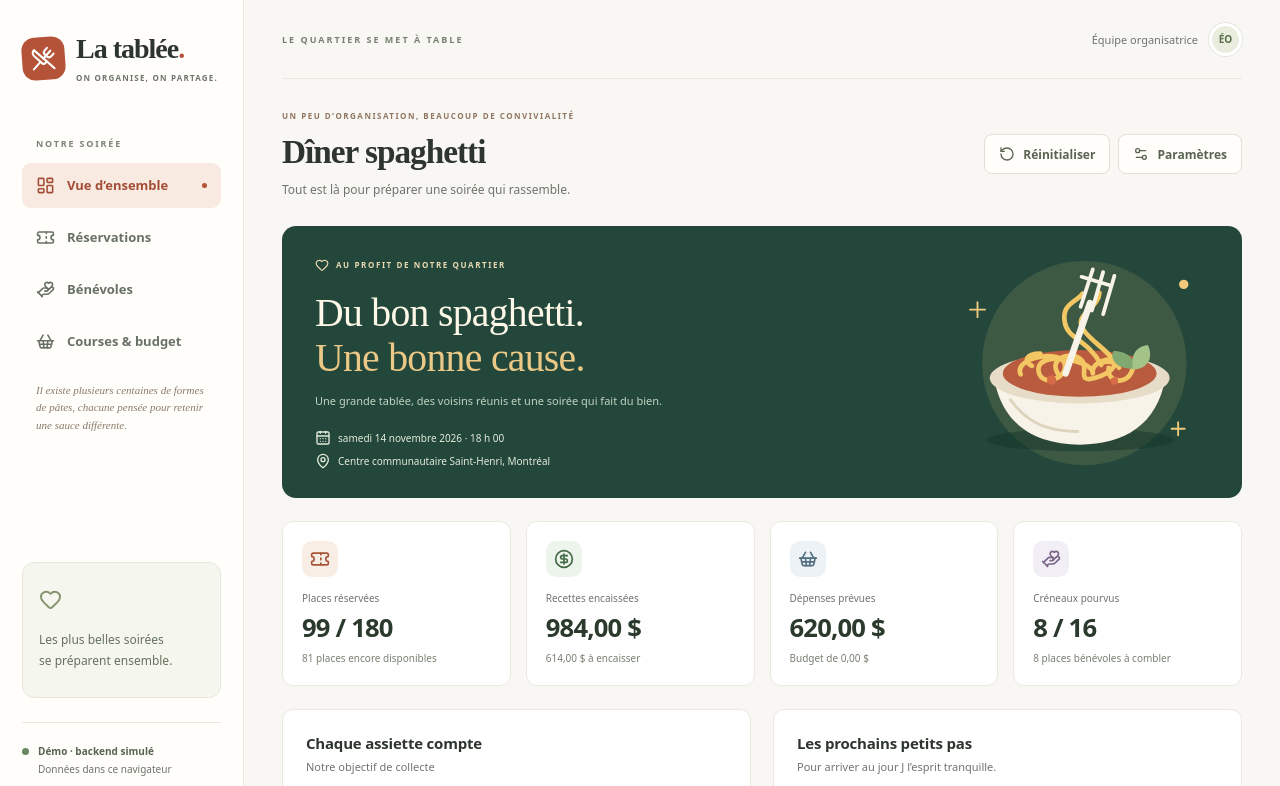
Test: organizer interface › shows existing spending as over budget even when the spending limit is zero
Check: the heading "Du bon spaghetti.Une bonne cause." is shown, box [315,291,585,380]
Click the button "Courses & budget": (122,341) [22,319,221,364]
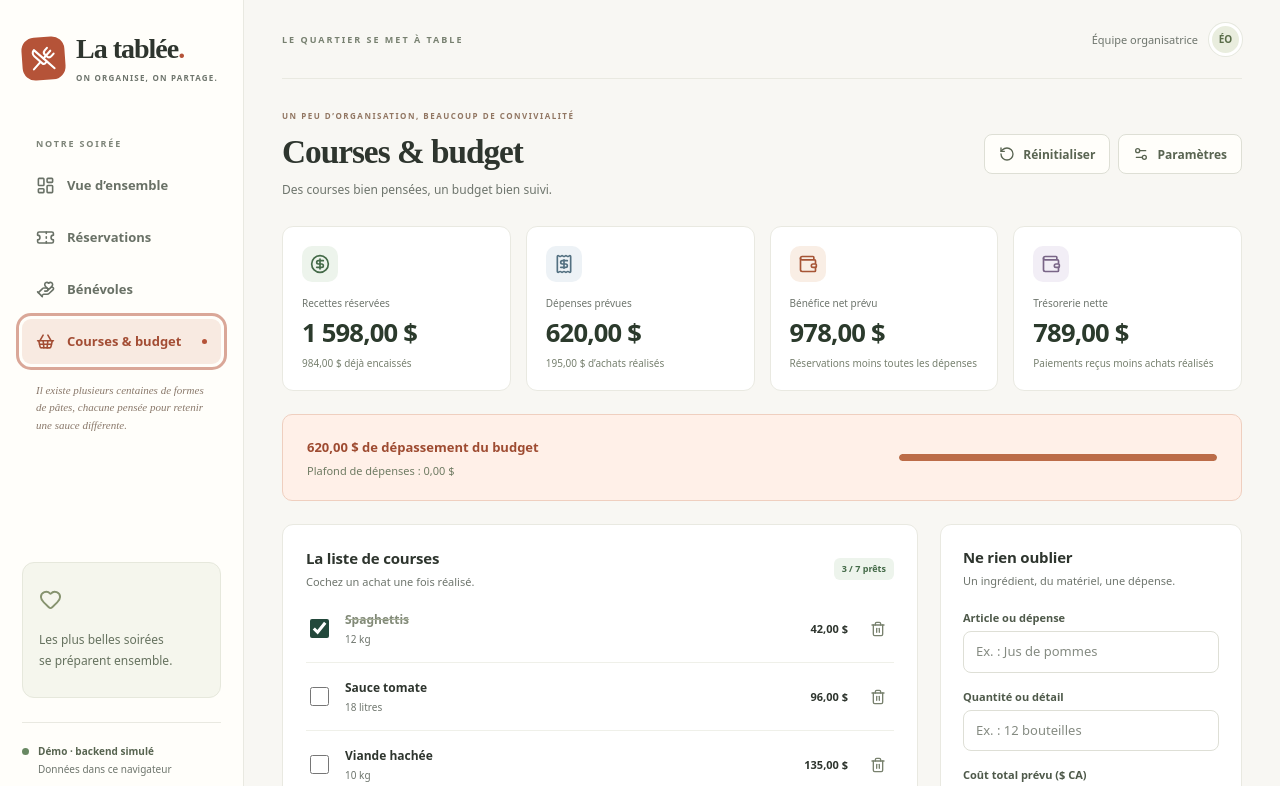
Check: the text "620,00 $ de dépassement du budget" is shown, box [307,438,539,456]
